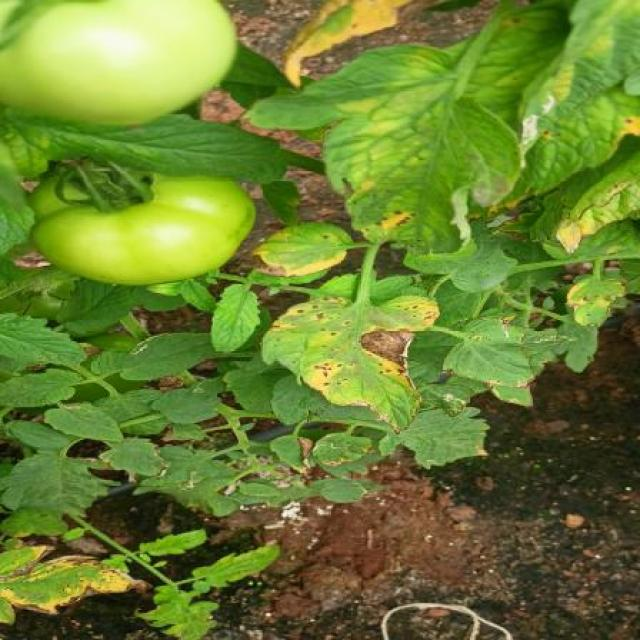Early Blight: (256, 294, 441, 435), (227, 217, 353, 280)
